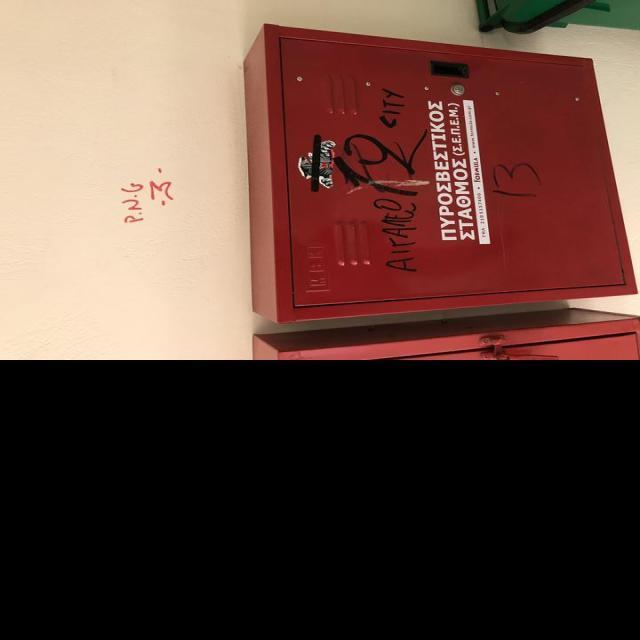nonspitting: (307, 83, 428, 273), (122, 168, 176, 224), (488, 160, 542, 200)
